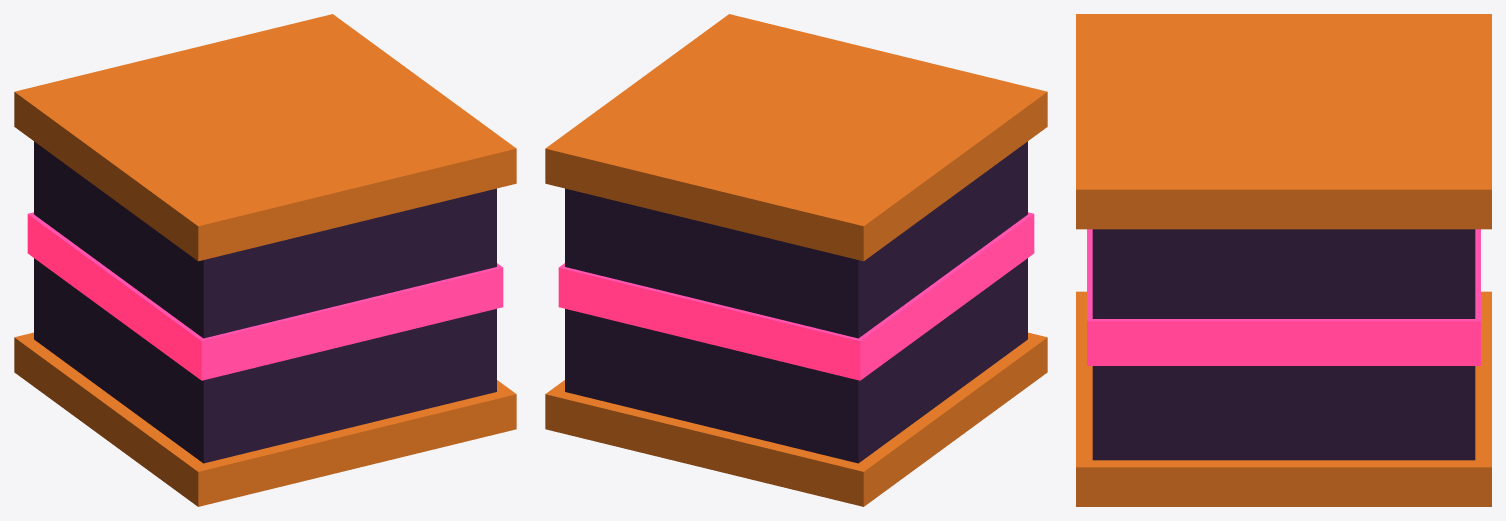
The model's file is prop_crate.glb.
3 renders of one model, left to right at view 1: azimuth 30°, elevation 25°; view 2: azimuth 150°, elevation 25°; view 3: azimuth 270°, elevation 25°, orthographic. The views are drawn at different scales.
Parts seen in each view (by area): view 1: crate_rim_top, crate_core, crate_rim_bot, hazard_band; view 2: crate_rim_top, crate_core, crate_rim_bot, hazard_band; view 3: crate_rim_top, crate_core, crate_rim_bot, hazard_band.
Part boxes in pixels (box(x1,y1,x2,y2)): crate_rim_top: box(14, 14, 516, 261); crate_core: box(34, 141, 496, 463); crate_rim_bot: box(14, 332, 516, 506); hazard_band: box(27, 212, 503, 380); crate_rim_top: box(545, 14, 1047, 261); crate_core: box(565, 141, 1027, 463); crate_rim_bot: box(545, 332, 1047, 506); hazard_band: box(558, 212, 1034, 380); crate_rim_top: box(1076, 14, 1491, 229); crate_core: box(1092, 229, 1475, 460); crate_rim_bot: box(1076, 291, 1491, 506); hazard_band: box(1087, 229, 1480, 365).
Size of the model in its own units: 1.52 by 1.28 by 1.52.
